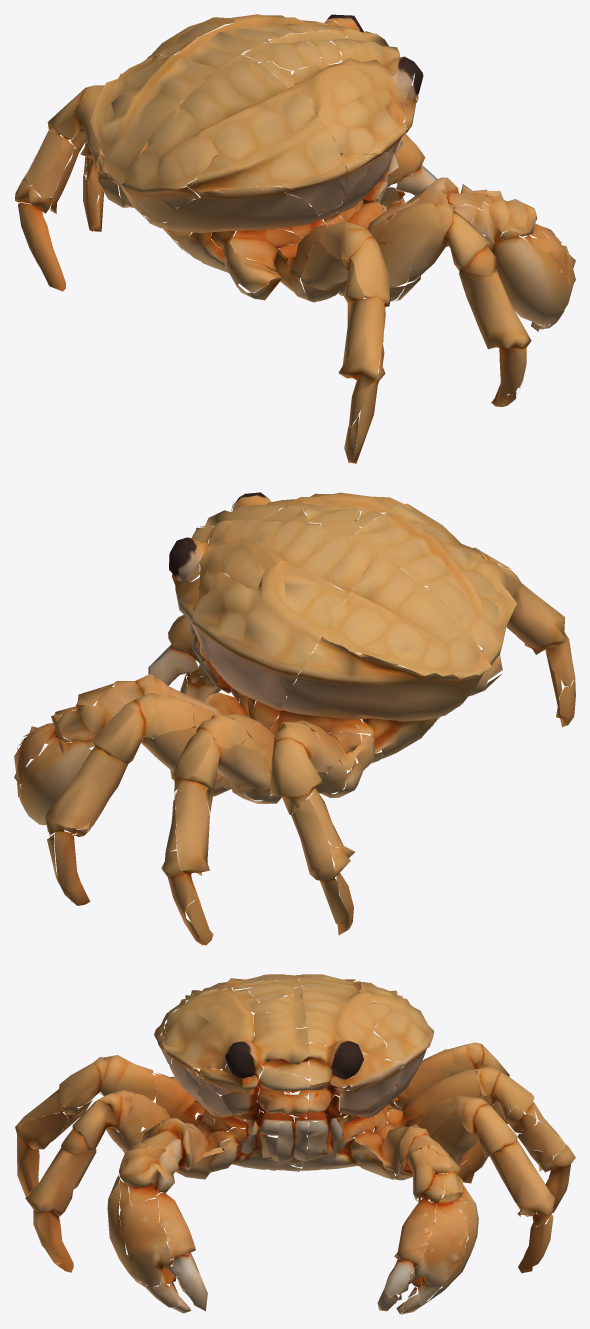
File: crab.glb
3 views of the same model, one above another, from view 1: azimuth 30°, elevation 25°; view 2: azimuth 150°, elevation 25°; view 3: azimuth 270°, elevation 25° (orthographic). The views are drawn at different scales.
Visible parts, largest first — view 1: tripo_node_b22d3a9d-9477-45df-8e4f-b07c1df95d26; view 2: tripo_node_b22d3a9d-9477-45df-8e4f-b07c1df95d26; view 3: tripo_node_b22d3a9d-9477-45df-8e4f-b07c1df95d26.
Part boxes in pixels (box(x1,y1,x2,y2)): tripo_node_b22d3a9d-9477-45df-8e4f-b07c1df95d26: box(15, 14, 575, 463); tripo_node_b22d3a9d-9477-45df-8e4f-b07c1df95d26: box(14, 492, 575, 945); tripo_node_b22d3a9d-9477-45df-8e4f-b07c1df95d26: box(15, 974, 575, 1314).
Size of the model in its own units: 1 by 0.7281 by 1.49.
1 material, 1 textured.
